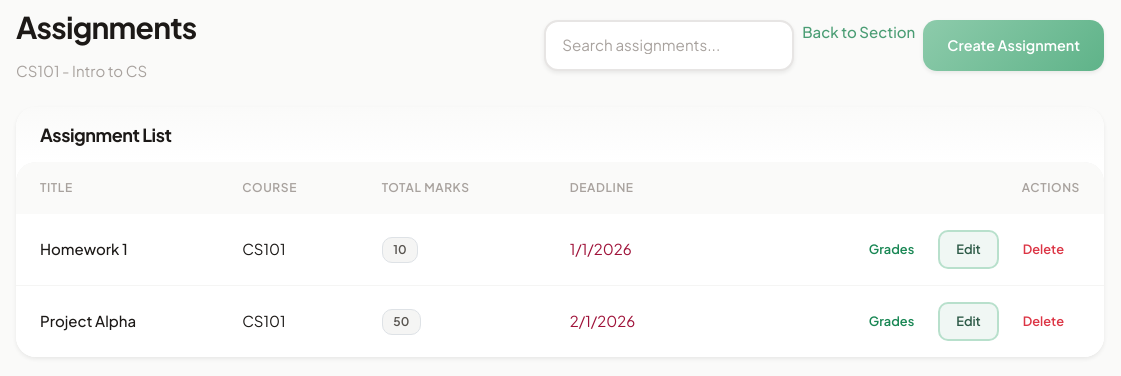
Test: AssignmentsPage › filters assignments by search query
This screenshot has width=1121, height=376.
Expected: the text "Homework 1" is shown, x1=16 y1=214 x2=222 y2=285
In the field with placeholder "Search assignments...": (669, 46) x1=544 y1=20 x2=794 y2=71, type "Alpha"
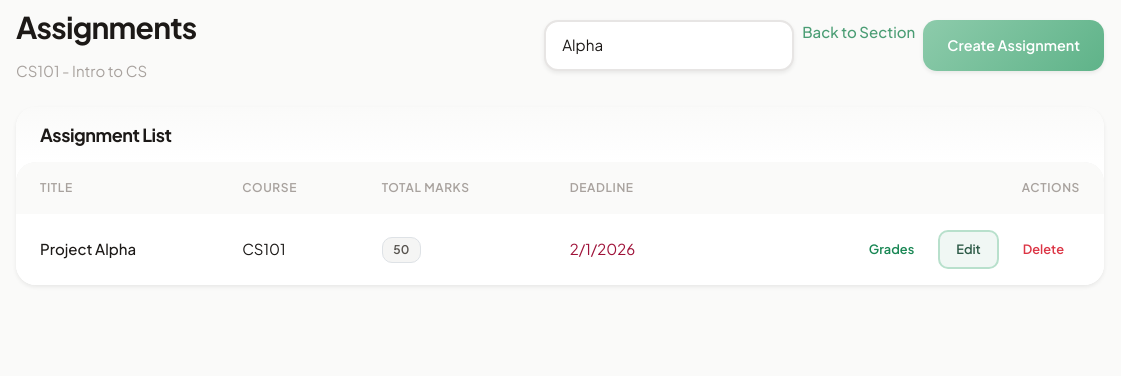
Expected: the text "Project Alpha" is shown, x1=16 y1=214 x2=222 y2=285
Now the text "Homework 1" is gone
